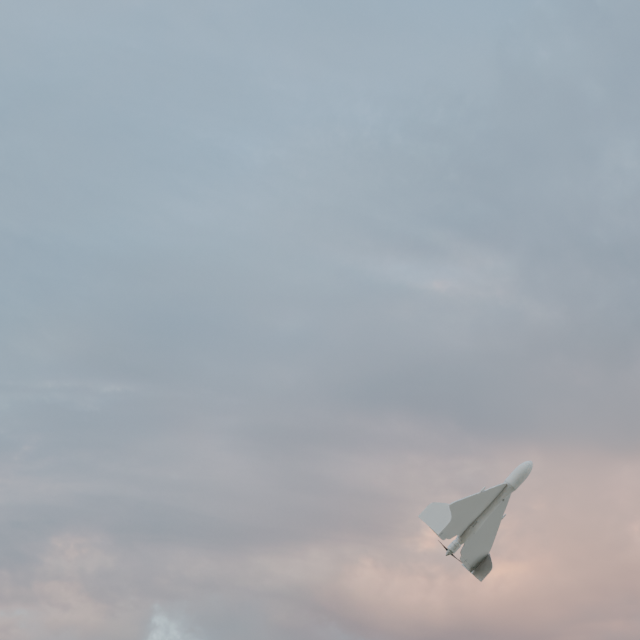shahed: (418, 461, 533, 583)
